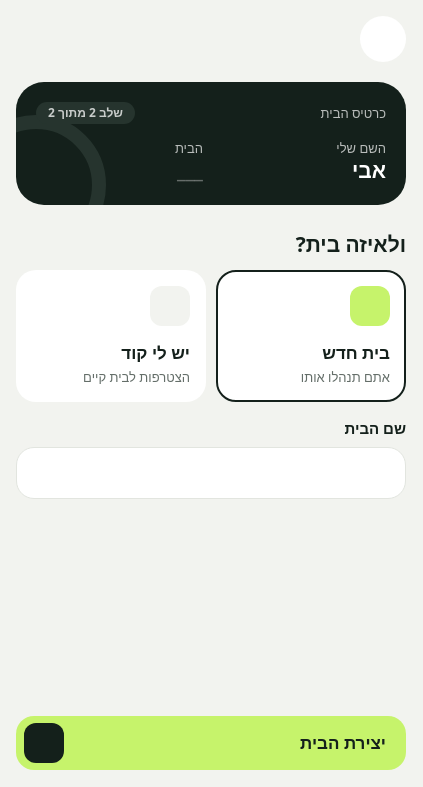
T-1.16 HouseholdStepScreen states (AC-1.10) › shows the offline banner on join
Click the radio button labelled "יש לי קוד הצטרפות לבית קיים" at (111, 336), box x1=16 y1=270 x2=206 y2=402
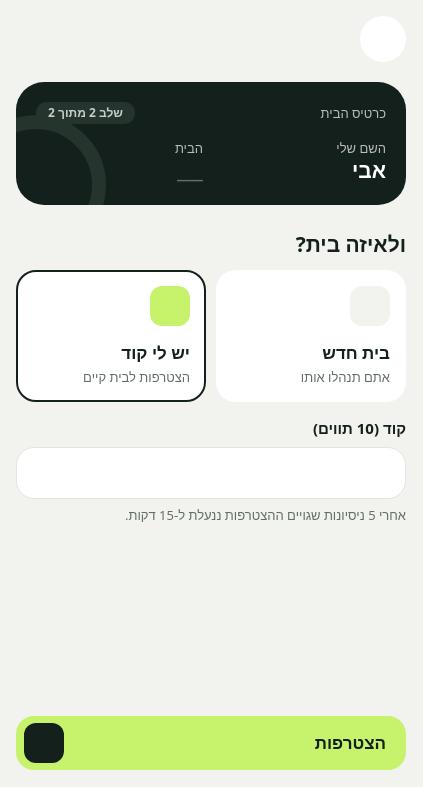
Type "K7PM4QXD9B" into the field labelled "קוד (10 תווים)" at (211, 473), box x1=16 y1=447 x2=406 y2=499
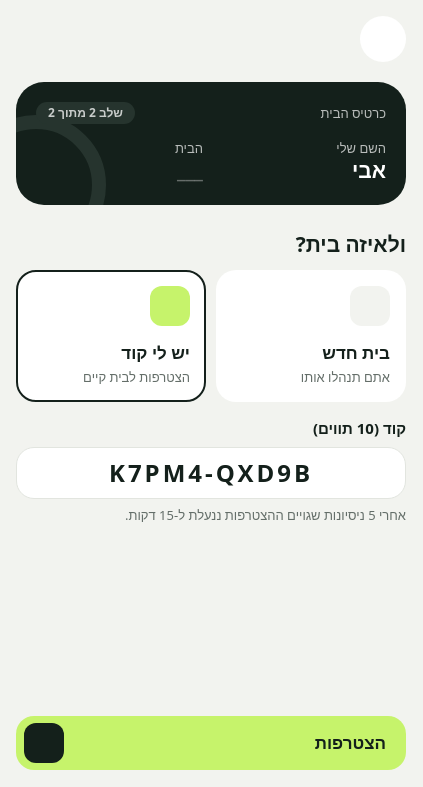
Click the button "הצטרפות" at (350, 742), box x1=16 y1=716 x2=406 y2=770
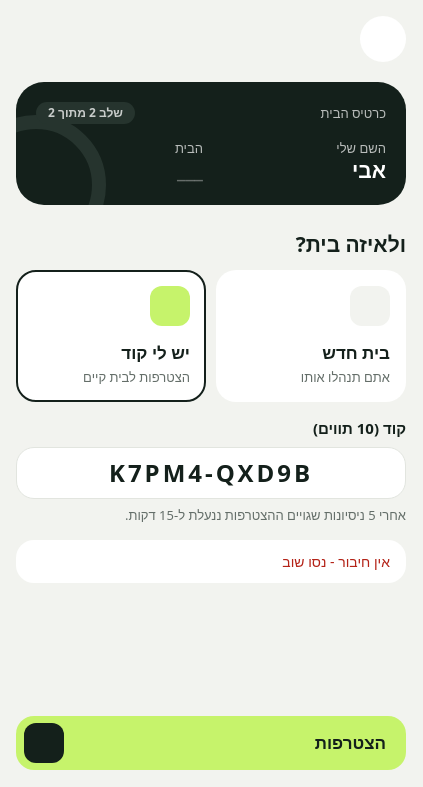
Expected: the message reads "אין חיבור - נסו שוב", x1=282 y1=552 x2=390 y2=571
